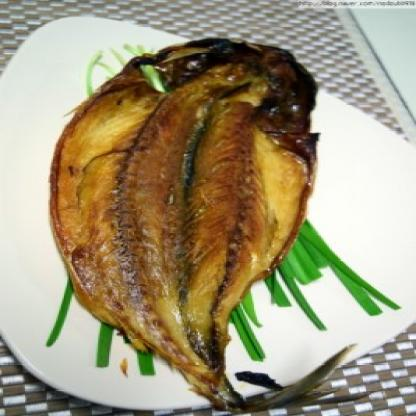Peixe: (35, 17, 355, 416)
